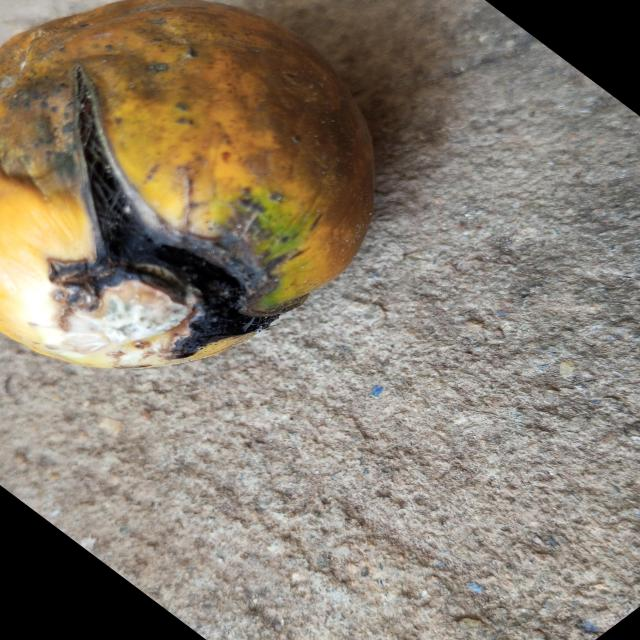damaged: (0, 0, 376, 373)
